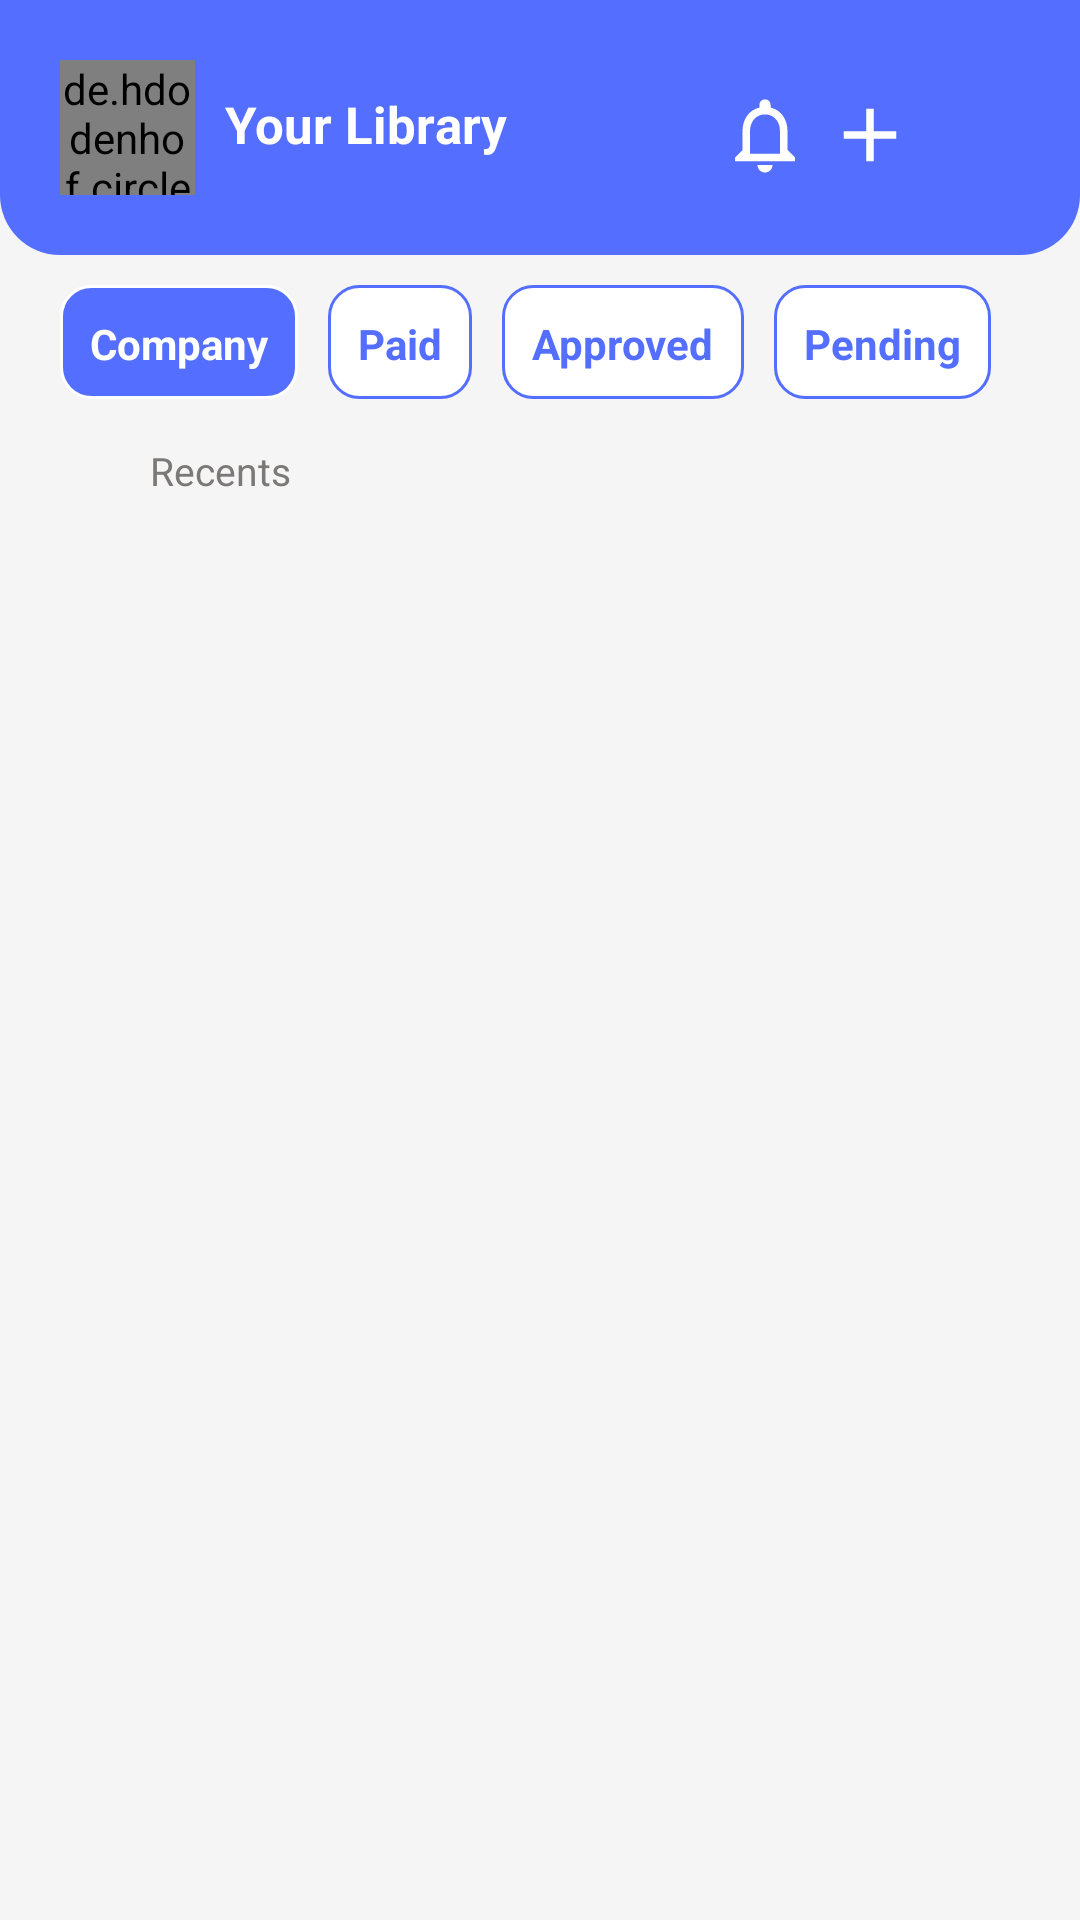

Icons on this 1080x1920 Android screen, each with the point to tap as [x,y]:
add: [870,135]
notifications: [765,136]
